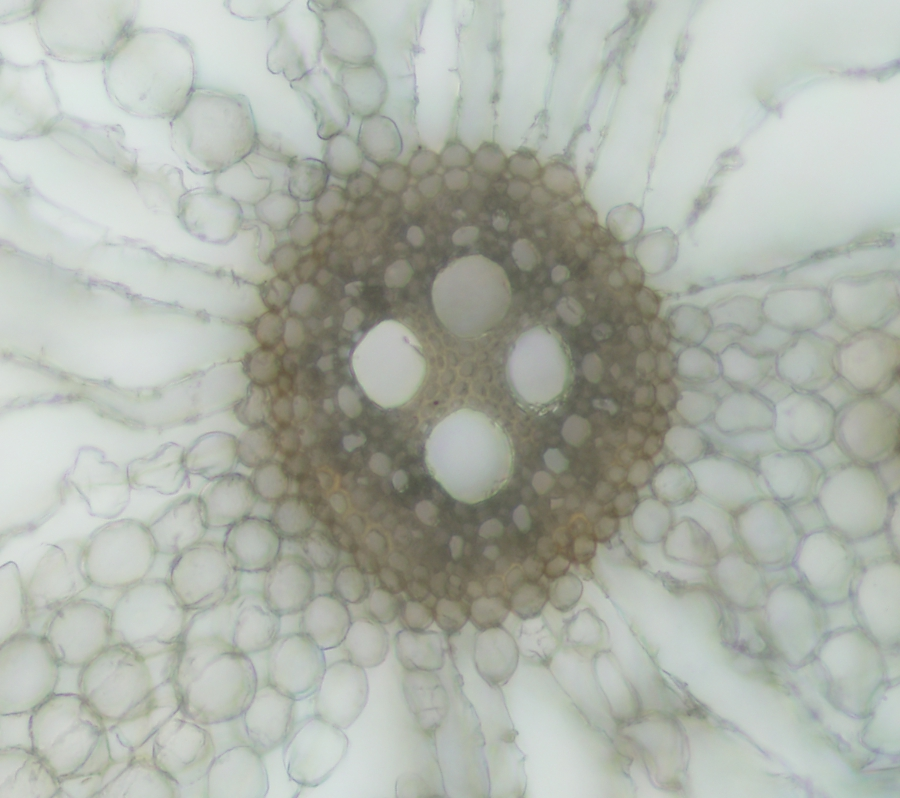lm: (424, 408, 514, 503), (432, 254, 515, 342), (351, 320, 425, 409), (506, 324, 574, 415)
